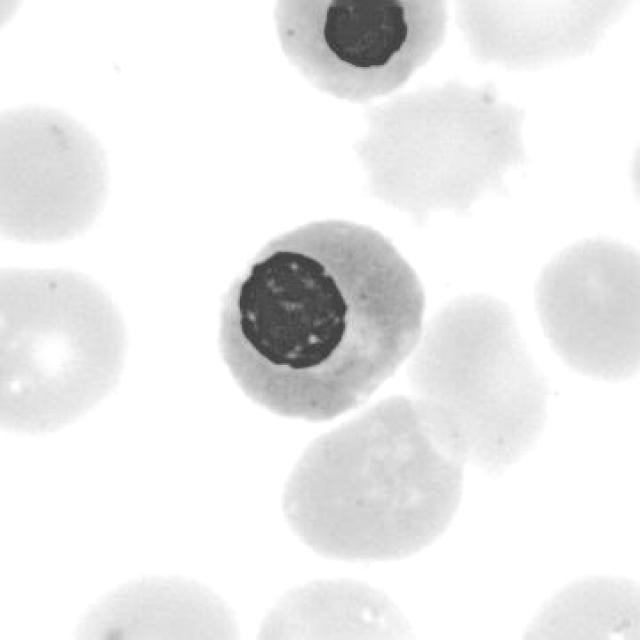RBC: (272, 393, 475, 568), (400, 282, 558, 471), (0, 250, 137, 442), (350, 74, 530, 213), (524, 222, 638, 390), (0, 94, 119, 252), (61, 564, 250, 638), (441, 2, 635, 74), (240, 569, 430, 640), (501, 559, 640, 640)
